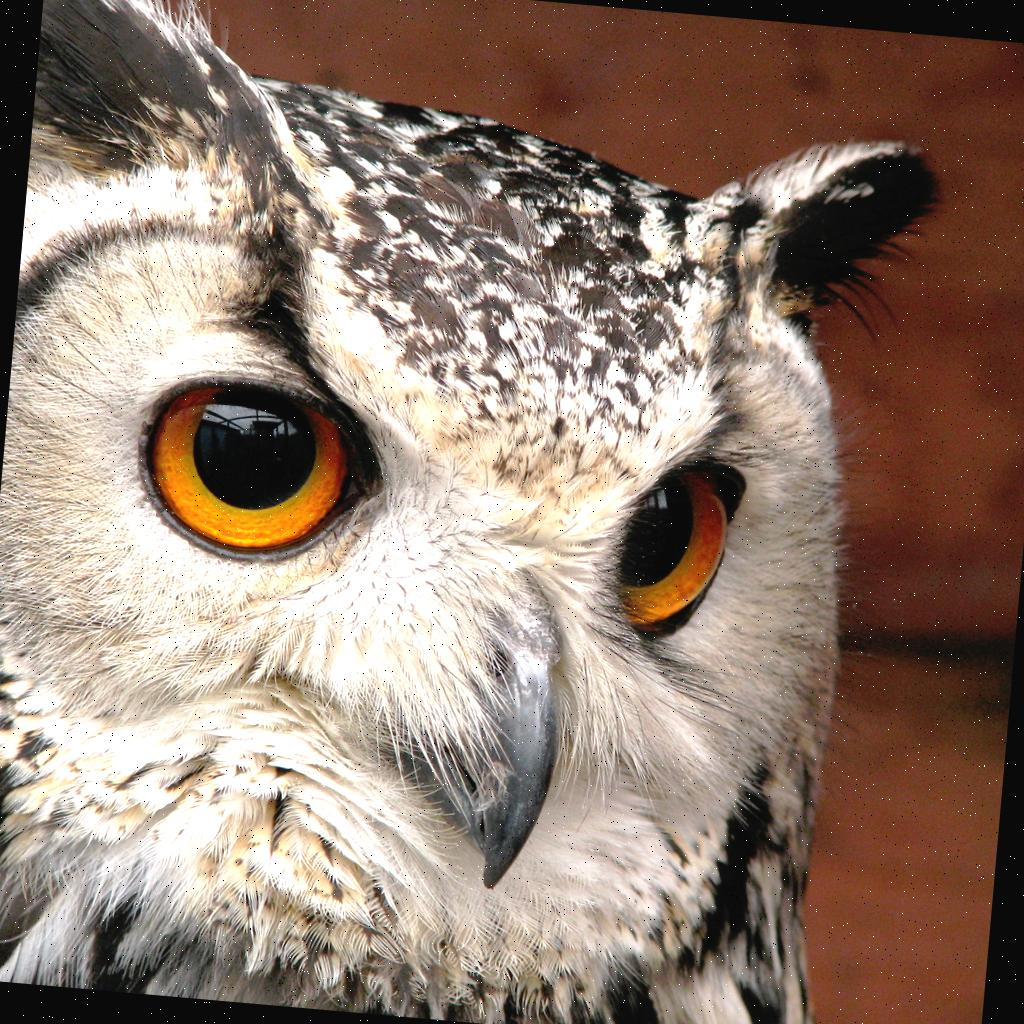Owl: (0, 0, 965, 1024)
